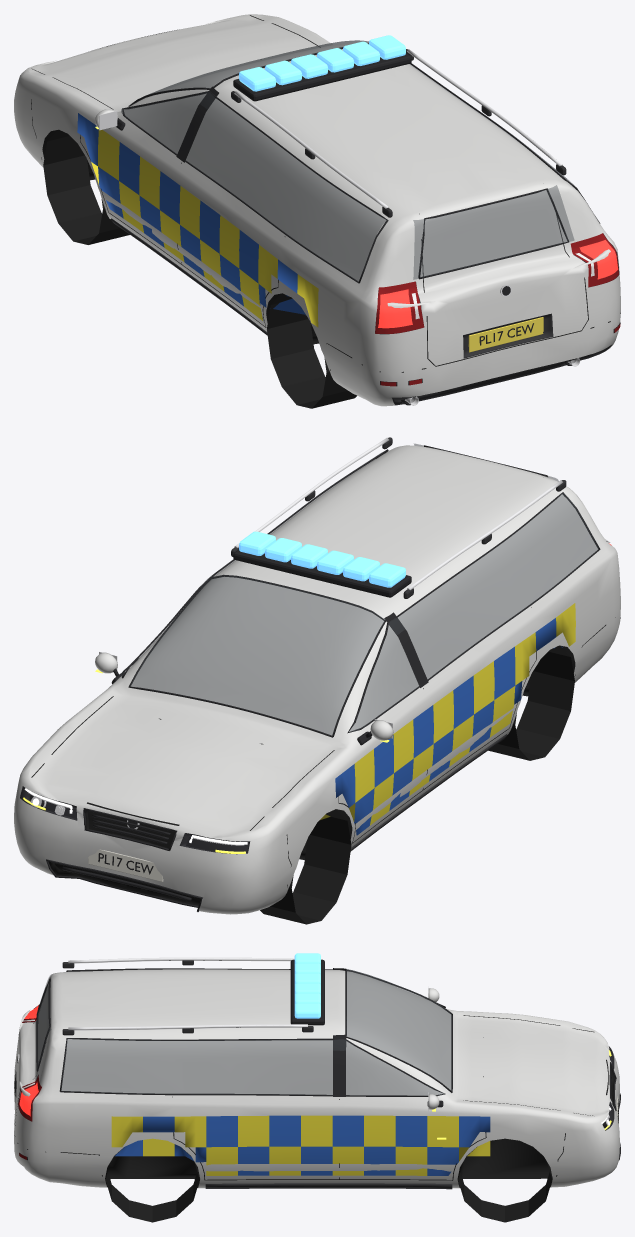
File: civ_police.glb
3 views of the same model, one above another, from view 1: azimuth 30°, elevation 25°; view 2: azimuth 150°, elevation 25°; view 3: azimuth 270°, elevation 25° (orthographic). The views are drawn at different scales.
Parts seen in each view (by area): view 1: civ_police; view 2: civ_police; view 3: civ_police.
Part boxes in pixels (x1,y1,x2,y2): civ_police: (14,14,620,408); civ_police: (14,437,620,924); civ_police: (14,953,620,1222).
Bounding box in the file's own units: 2.05 × 1.62 × 4.61.
